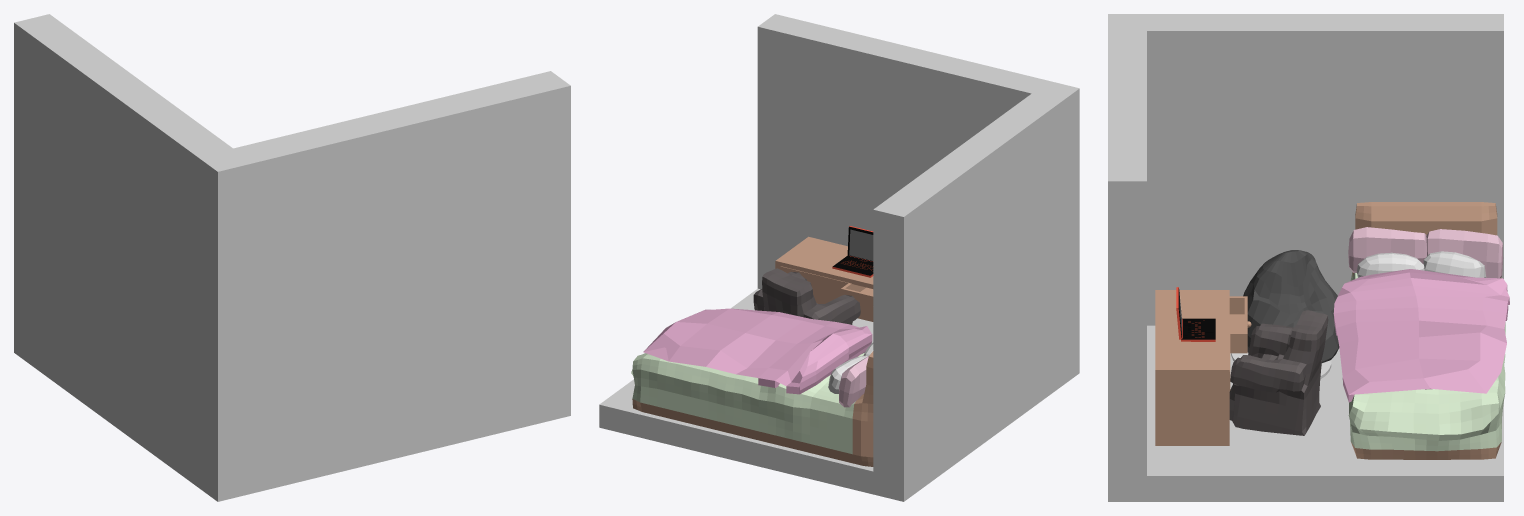
Rendered from fas_room1.glb.
3 views of the same model, side by side, from view 1: azimuth 30°, elevation 25°; view 2: azimuth 150°, elevation 25°; view 3: azimuth 270°, elevation 25° (orthographic). The views are drawn at different scales.
Parts seen in each view (by area): view 1: walls; view 2: walls, bed, blanket, chair, desk, laptop, pillows, drawer1, drawer2, cushions; view 3: walls, blanket, bed, desk, chair, beanbag, pillows, cushions, drawer2, laptop.
Boxes of the visible parts, left/top/right/bottom form: walls: left=14, top=14, right=570, bottom=501; walls: left=599, top=14, right=1079, bottom=501; bed: left=631, top=351, right=873, bottom=466; blanket: left=643, top=308, right=872, bottom=394; chair: left=753, top=268, right=860, bottom=324; desk: left=775, top=236, right=873, bottom=321; laptop: left=832, top=226, right=873, bottom=277; pillows: left=839, top=356, right=868, bottom=407; drawer1: left=780, top=266, right=848, bottom=297; drawer2: left=841, top=283, right=873, bottom=313; cushions: left=828, top=342, right=873, bottom=393; walls: left=1108, top=14, right=1503, bottom=501; blanket: left=1333, top=269, right=1509, bottom=402; bed: left=1348, top=202, right=1505, bottom=459; desk: left=1155, top=290, right=1229, bottom=445; chair: left=1229, top=310, right=1328, bottom=435; beanbag: left=1243, top=250, right=1339, bottom=362; pillows: left=1348, top=227, right=1503, bottom=278; cushions: left=1356, top=251, right=1485, bottom=277; drawer2: left=1229, top=296, right=1251, bottom=353; laptop: left=1176, top=287, right=1215, bottom=341.
Size of the model in its own units: 10.65 by 9.51 by 10.81.
